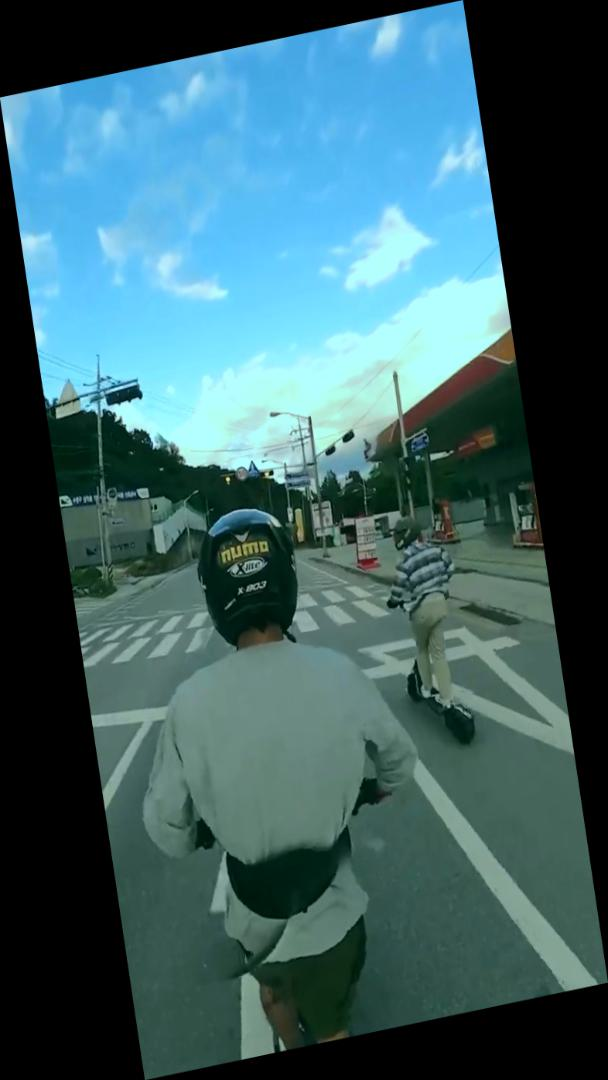helmet: (98, 476, 458, 1073), (374, 503, 481, 756)
